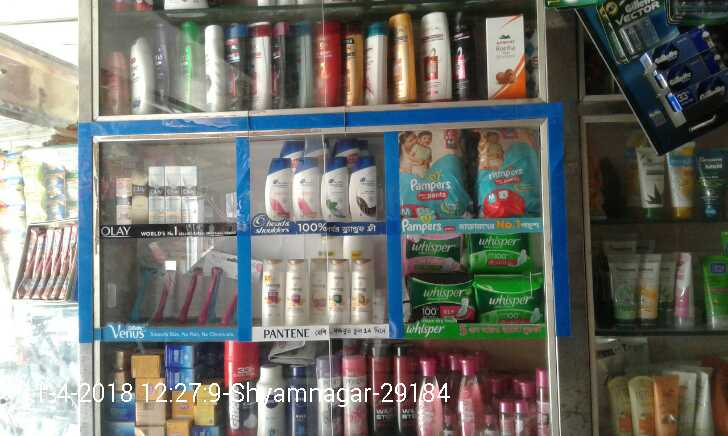gillete: (597, 1, 672, 59), (661, 60, 728, 105), (228, 344, 257, 436)
venus: (196, 252, 226, 326), (125, 254, 151, 323), (152, 257, 175, 322), (176, 259, 196, 324), (227, 263, 237, 328)
